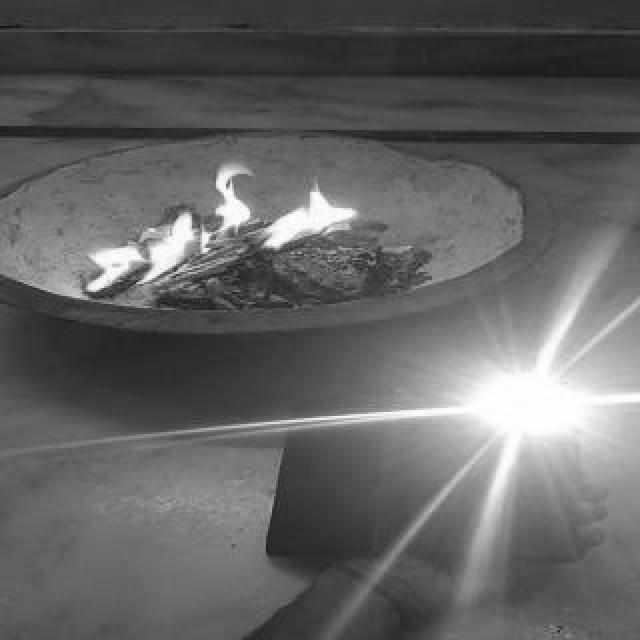Fire: (92, 164, 364, 298)
